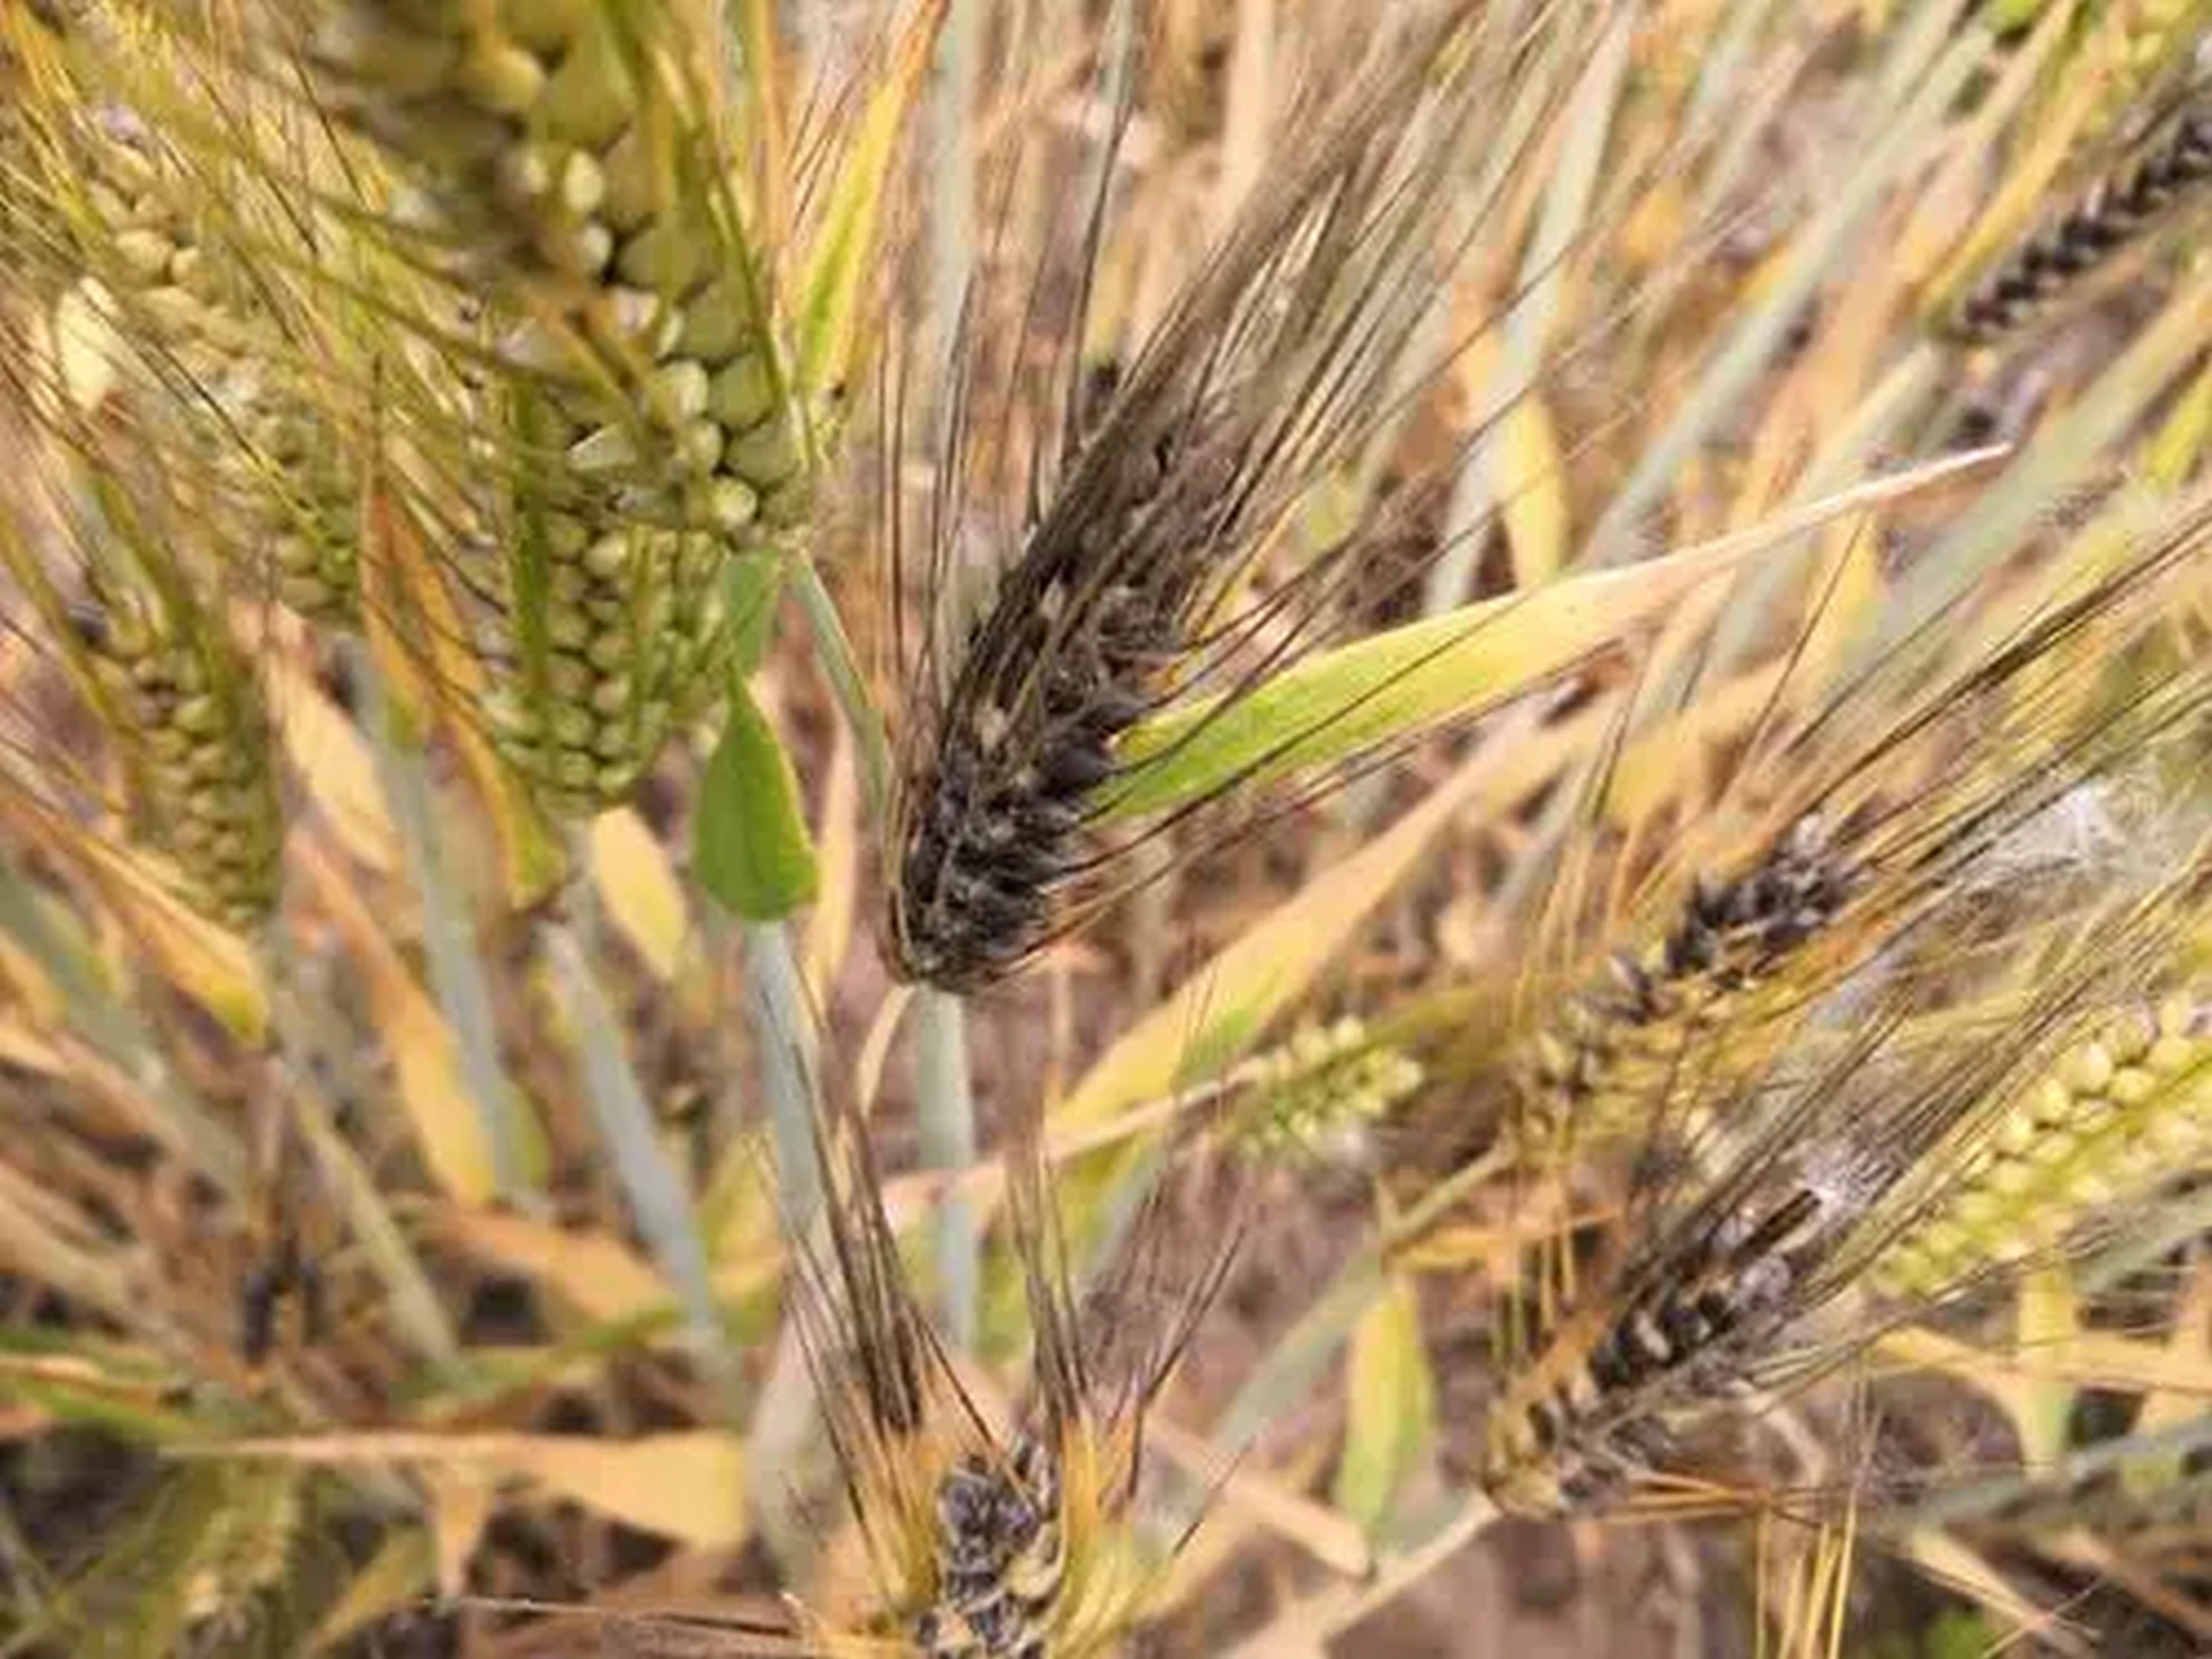Wheat Loose Smut: (864, 352, 1324, 1025)
